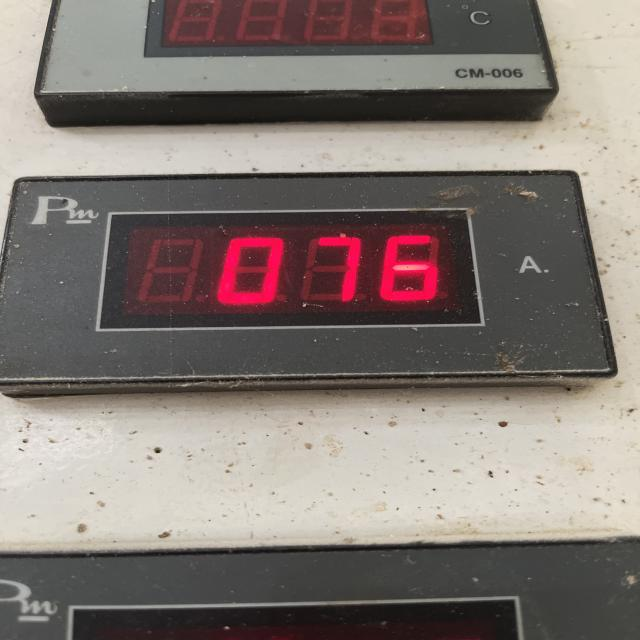display: (98, 206, 484, 331), (162, 2, 435, 48)
frame: (214, 224, 446, 313), (491, 67, 525, 80)
gauge: (0, 168, 622, 399), (32, 0, 562, 127)
